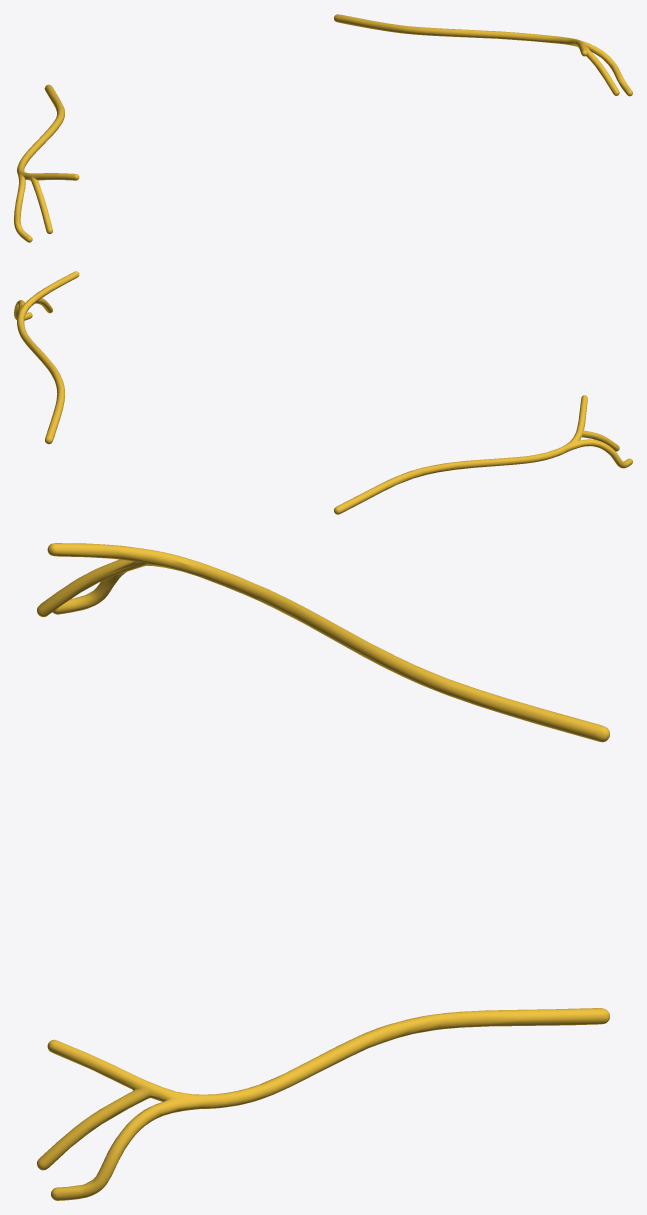
The model's file is lacrimal.glb.
3 views of the same model, one above another, from view 1: azimuth 30°, elevation 25°; view 2: azimuth 150°, elevation 25°; view 3: azimuth 270°, elevation 25° (orthographic). The views are drawn at different scales.
Visible parts, largest first — view 1: grp1; view 2: grp1; view 3: grp1.
Boxes of the visible parts, left/top/right/bottom form: grp1: left=14, top=14, right=632, bottom=242; grp1: left=14, top=271, right=632, bottom=514; grp1: left=37, top=543, right=609, bottom=1200.
Size of the model in its own units: 0.087 by 0.00785 by 0.0355.
